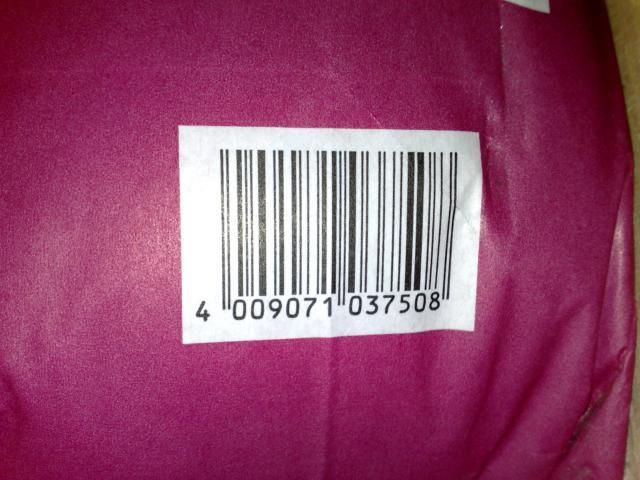Barcode: (186, 145, 471, 332)
